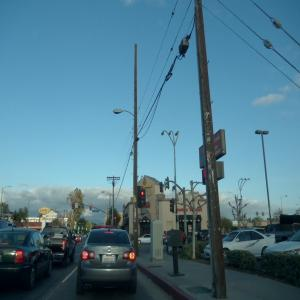Vehicle-registration-plate: (103, 256, 118, 265)
